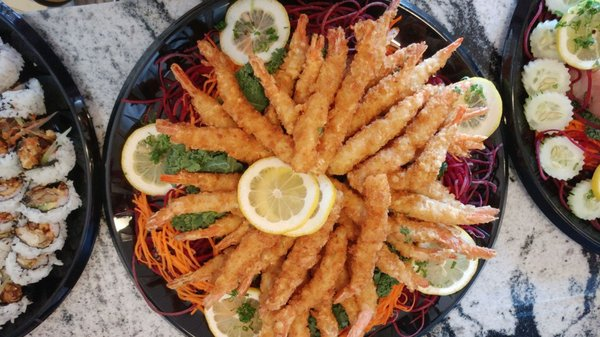curry: (223, 2, 291, 73), (235, 63, 269, 112)
sushi: (0, 1, 104, 333), (505, 0, 600, 253)
